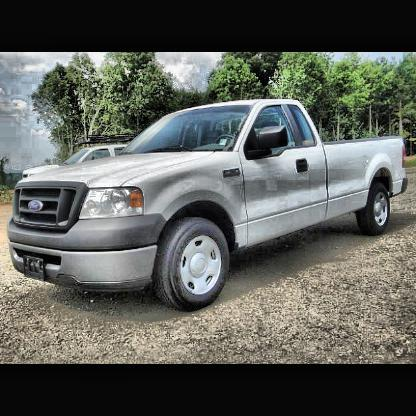Ford F-150 Regular Cab 2007: (8, 101, 409, 310)
